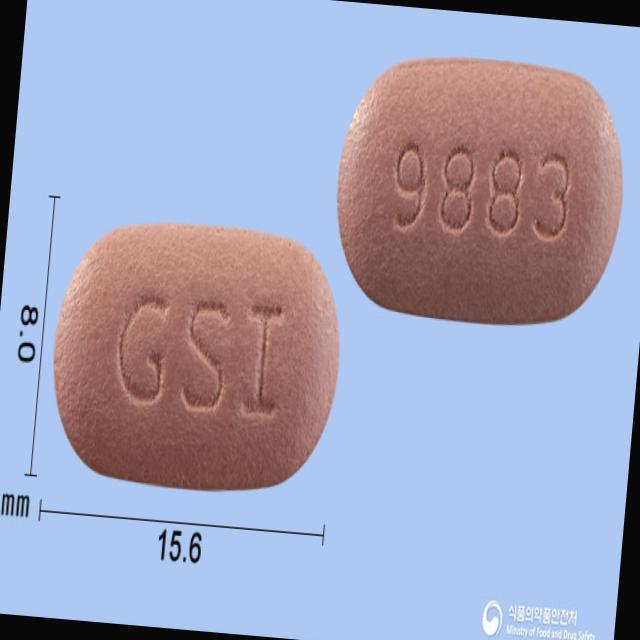Biktarvy: (39, 210, 354, 505)
